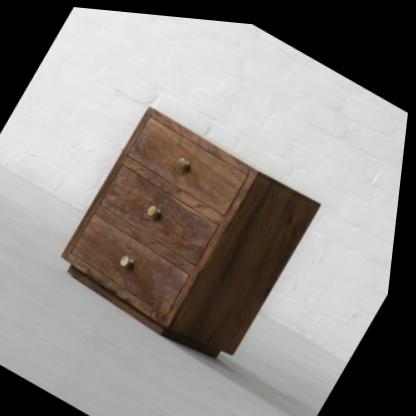Nightstand: (50, 99, 331, 376)
